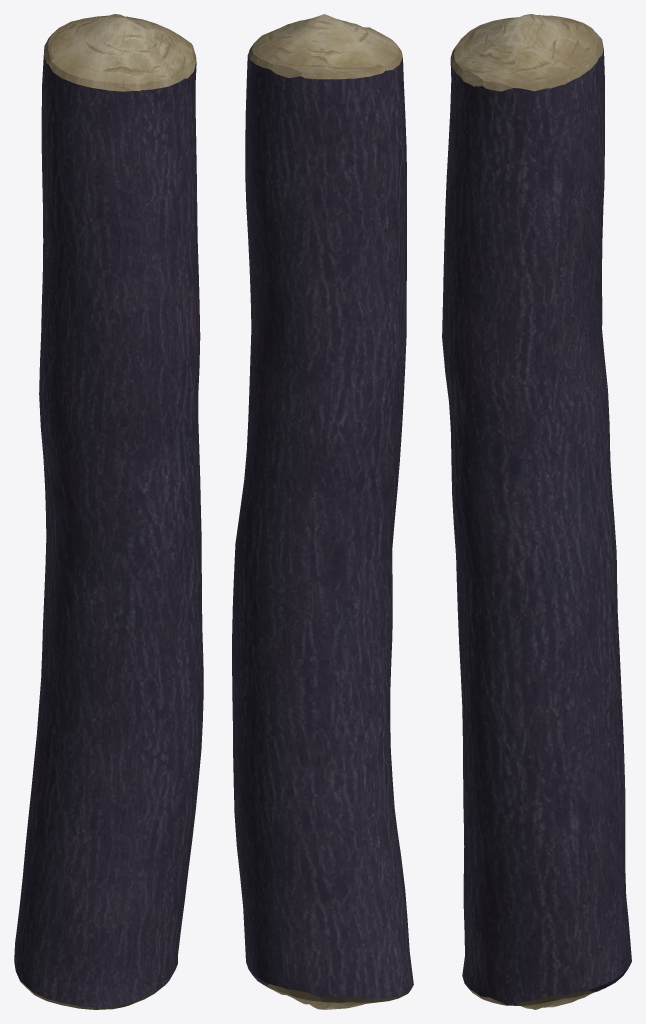
3 renders of one model, left to right at view 1: azimuth 30°, elevation 25°; view 2: azimuth 150°, elevation 25°; view 3: azimuth 270°, elevation 25°, orthographic.
Visible parts, largest first — view 1: SM_GF_Oak_Tree_01_half_mid_LOD0; view 2: SM_GF_Oak_Tree_01_half_mid_LOD0; view 3: SM_GF_Oak_Tree_01_half_mid_LOD0.
Boxes of the visible parts, x1,y1,x2,y2 form: SM_GF_Oak_Tree_01_half_mid_LOD0: [14, 14, 203, 1009]; SM_GF_Oak_Tree_01_half_mid_LOD0: [232, 14, 413, 1009]; SM_GF_Oak_Tree_01_half_mid_LOD0: [442, 14, 631, 1009].
Size of the model in its own units: 0.8999 by 5.1 by 0.8794.
1 material, 1 textured.
